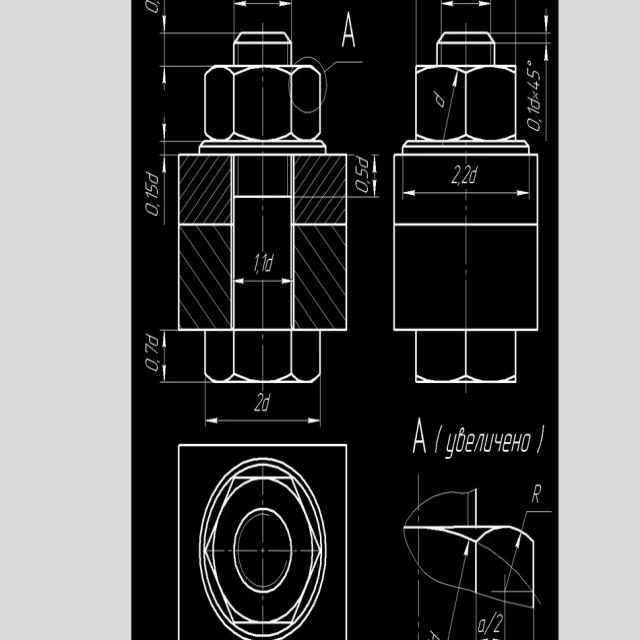marking_line: (400, 159, 532, 200), (204, 383, 322, 426), (518, 40, 552, 140), (160, 2, 233, 37), (158, 331, 205, 385), (233, 1, 293, 32), (493, 10, 553, 36), (440, 1, 493, 30), (159, 154, 177, 226), (351, 154, 379, 200), (440, 72, 458, 139), (160, 64, 203, 92), (159, 116, 202, 144), (157, 329, 176, 383), (522, 510, 553, 531), (235, 276, 292, 287), (457, 541, 470, 585), (511, 534, 521, 566)
numeric: (354, 178, 370, 194), (494, 612, 505, 635), (253, 389, 264, 411), (532, 482, 543, 504), (527, 67, 541, 82), (526, 119, 541, 132), (452, 164, 461, 185), (145, 359, 158, 373), (354, 166, 369, 178), (146, 204, 159, 217), (144, 184, 158, 196), (463, 163, 471, 184), (527, 79, 541, 91), (145, 343, 158, 355), (253, 252, 260, 272), (526, 107, 540, 115), (262, 252, 267, 272), (146, 192, 158, 200)
special_symbol: (527, 61, 532, 67)
